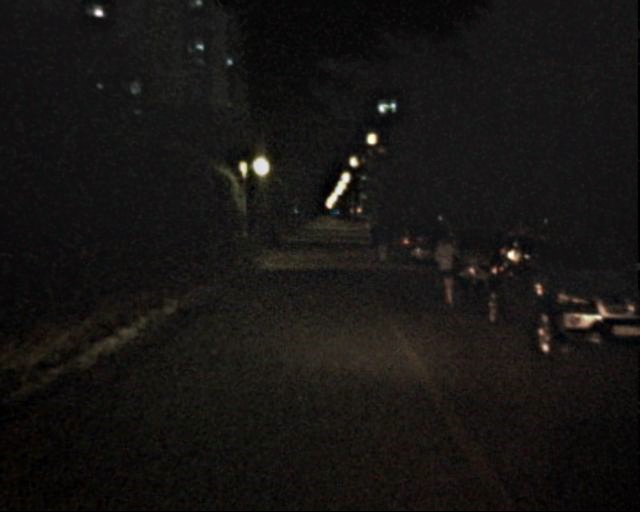person: (429, 231, 461, 310), (373, 217, 391, 262), (364, 219, 379, 255)
